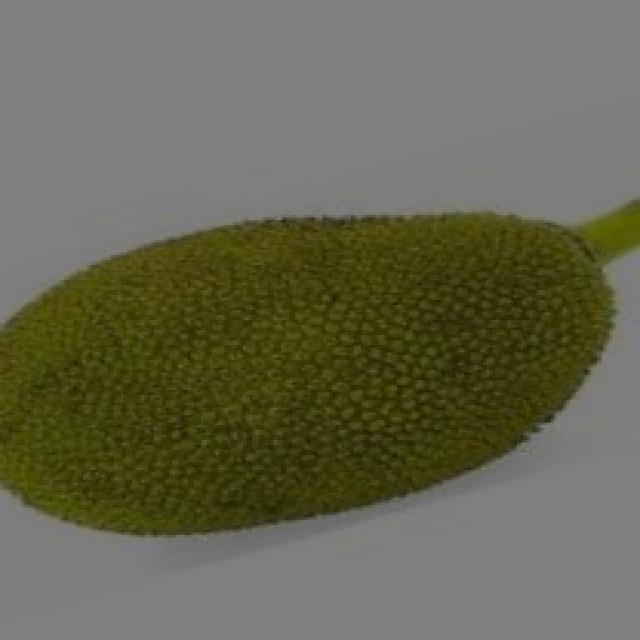Fruit: (0, 207, 403, 565), (240, 195, 634, 530)
